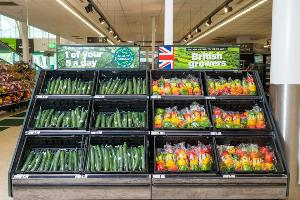bell_pepper: (216, 134, 290, 176), (155, 135, 219, 177), (210, 99, 274, 127), (152, 100, 210, 130), (203, 69, 262, 95), (150, 69, 204, 97)
cucumber: (86, 132, 150, 170), (22, 136, 85, 170), (86, 100, 150, 130), (32, 96, 86, 130), (40, 68, 95, 96), (95, 72, 147, 96)
